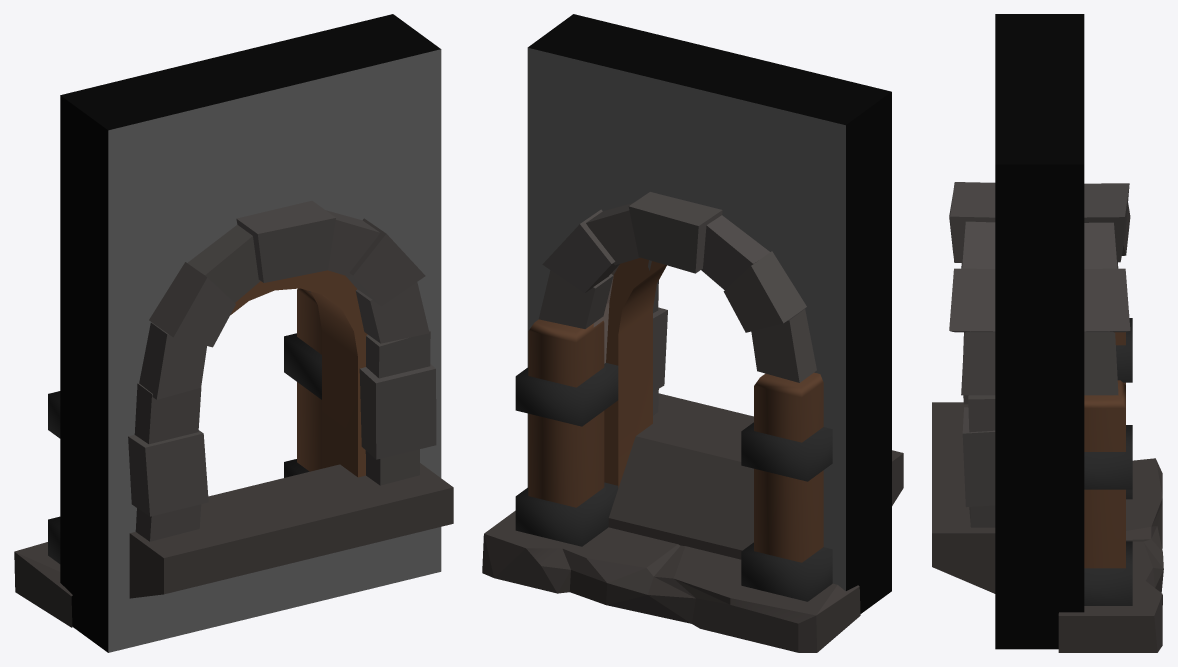
The model's file is Wall_S_LargeWindow.fbx.
3 views of the same model, side by side, from view 1: azimuth 30°, elevation 25°; view 2: azimuth 150°, elevation 25°; view 3: azimuth 270°, elevation 25° (orthographic). The views are drawn at different scales.
Parts seen in each view (by area): view 1: Wall_S_LargeWindow; view 2: Wall_S_LargeWindow; view 3: Wall_S_LargeWindow.
Boxes of the visible parts, x1=… form: Wall_S_LargeWindow: x1=14, y1=14, x2=453, y2=652; Wall_S_LargeWindow: x1=482, y1=14, x2=903, y2=652; Wall_S_LargeWindow: x1=932, y1=14, x2=1163, y2=652.
Size of the model in its own units: 4.02 by 5.88 by 2.5.
